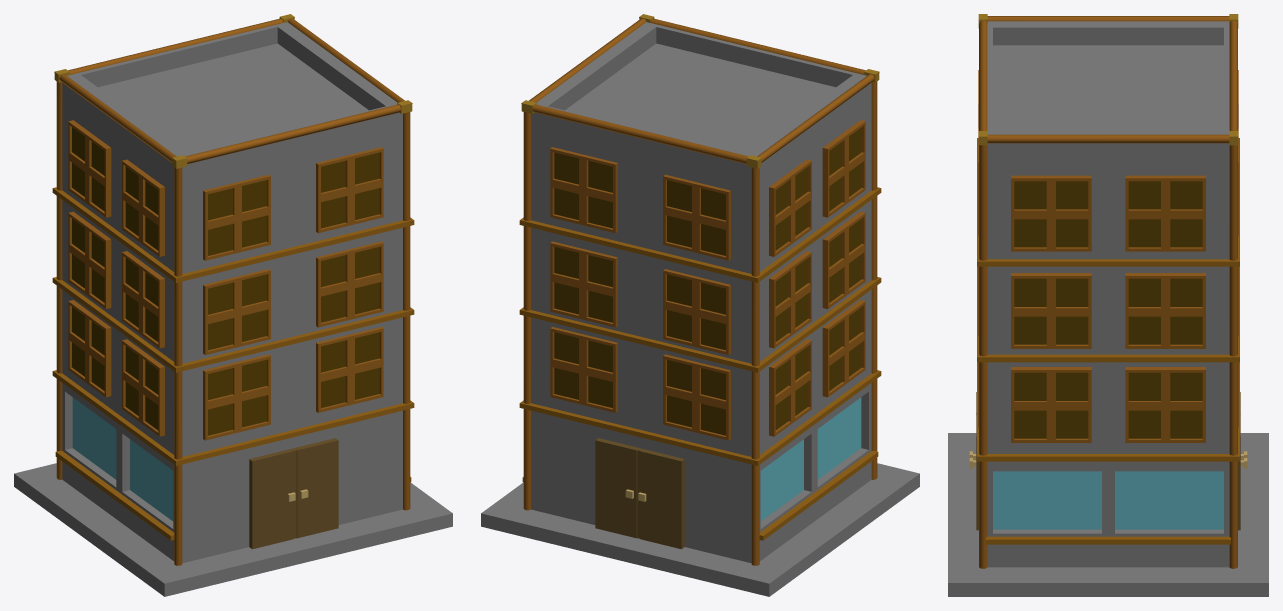
Rendered from House17.fbx.
The picture shows the model from 3 angles, left to right: view 1: azimuth 30°, elevation 25°; view 2: azimuth 150°, elevation 25°; view 3: azimuth 270°, elevation 25°; orthographic projection. The views are drawn at different scales.
Visible parts, largest first — view 1: House.017; view 2: House.017; view 3: House.017.
Boxes of the visible parts, left/top/right/bottom form: House.017: left=14, top=14, right=452, bottom=596; House.017: left=481, top=14, right=919, bottom=596; House.017: left=948, top=14, right=1268, bottom=596.
Bounding box in the file's own units: 738 × 1025 × 667.
